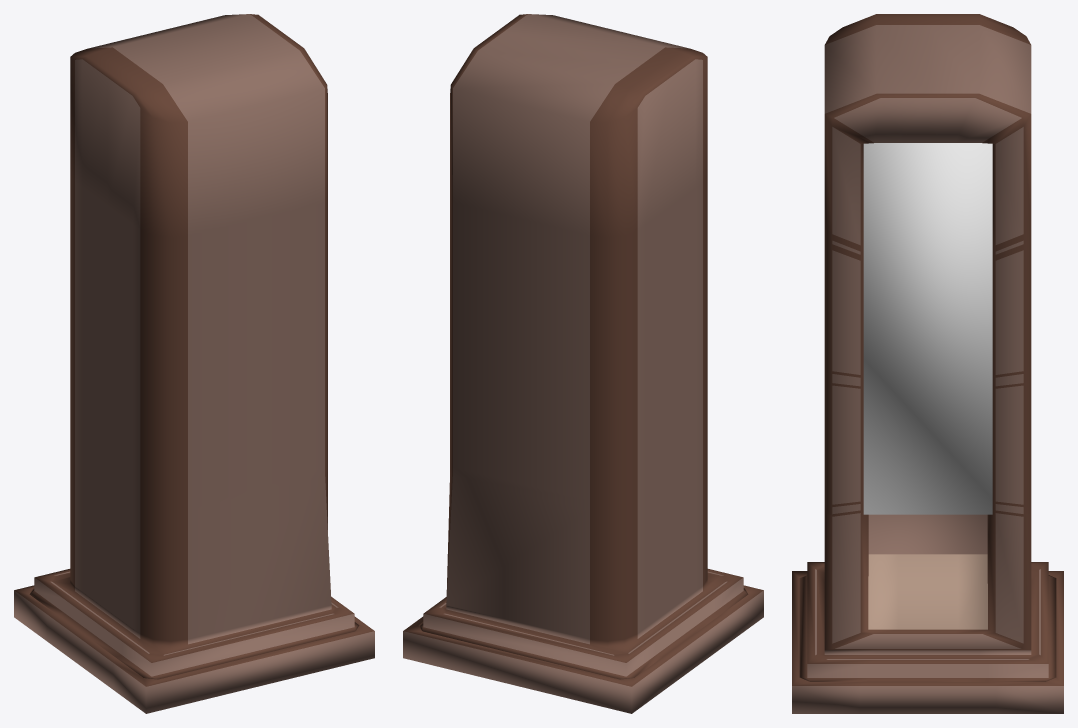
The model's file is BigClock.fbx.
The picture shows the model from 3 angles, left to right: view 1: azimuth 30°, elevation 25°; view 2: azimuth 150°, elevation 25°; view 3: azimuth 270°, elevation 25°; orthographic projection. The views are drawn at different scales.
Visible parts, largest first — view 1: Cube; view 2: Cube; view 3: Cube, Cube.001.
Boxes of the visible parts, <box> form: Cube: <box>14,14,374,713</box>; Cube: <box>403,14,763,713</box>; Cube: <box>792,14,1063,713</box>; Cube.001: <box>863,143,992,514</box>.
Size of the model in its own units: 363 by 889 by 363.
